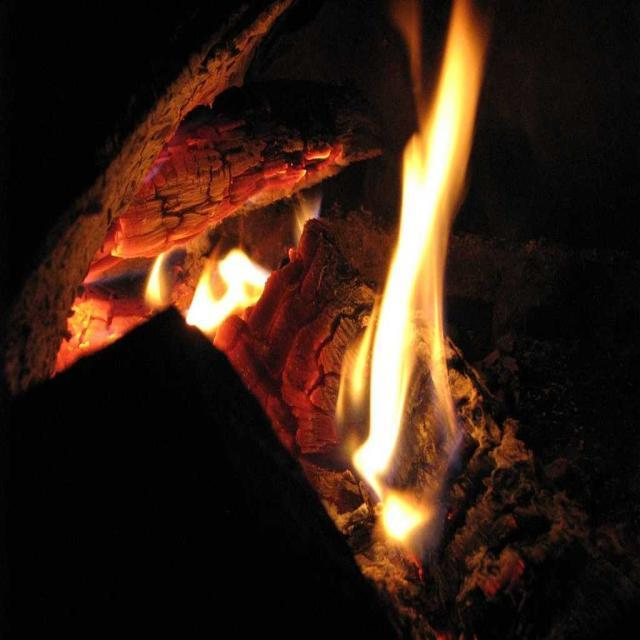Fire: (338, 312, 472, 538), (381, 9, 475, 309), (186, 251, 270, 330), (140, 252, 167, 306)
